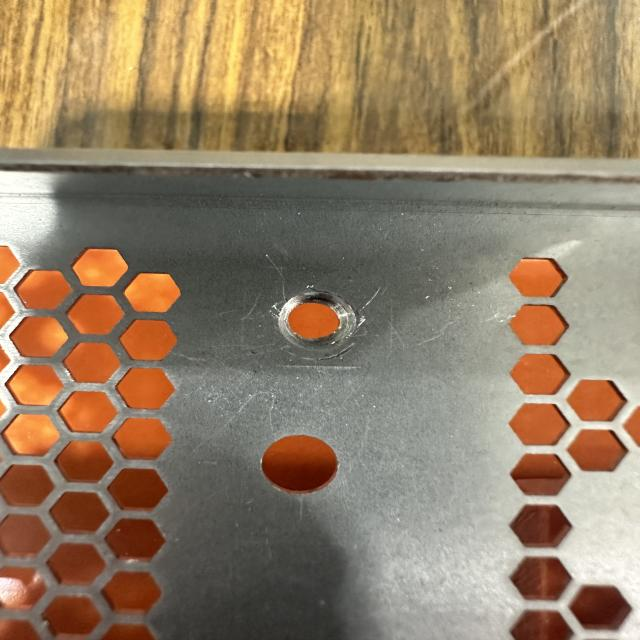Missing screw: (262, 277, 375, 361)
